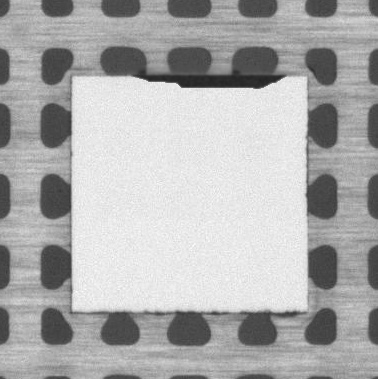DIE_BROKEN: (142, 69, 290, 91)
